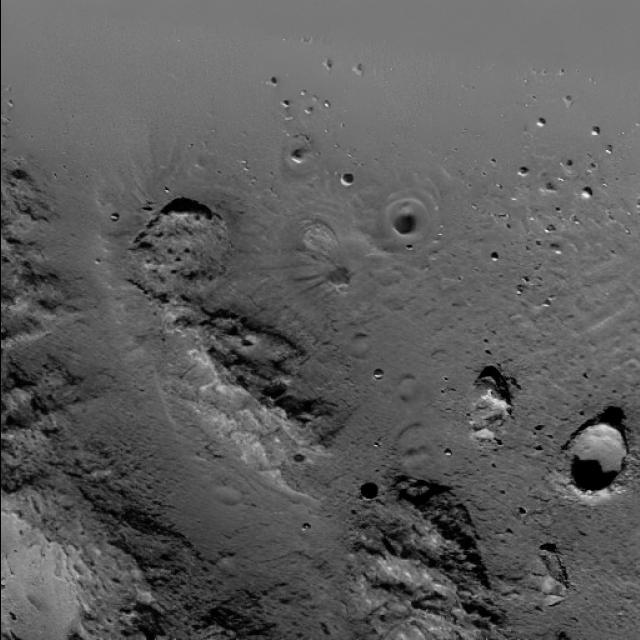crater: (560, 424, 630, 502)
